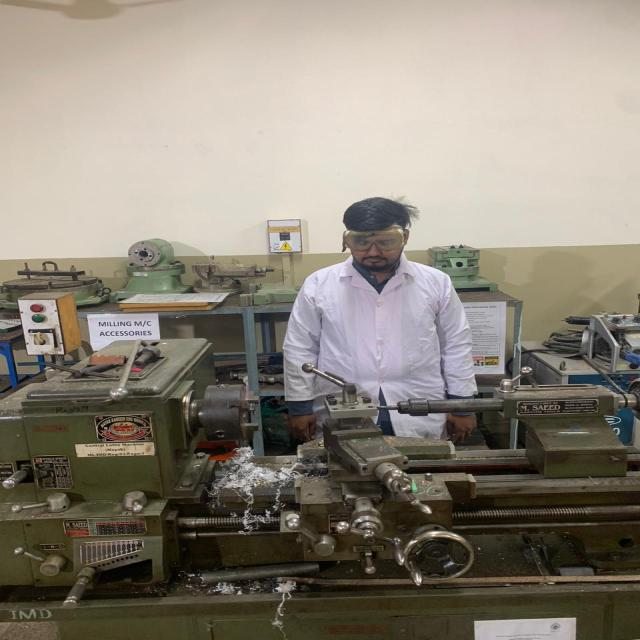googles: (342, 228, 406, 252)
labcoat: (277, 260, 480, 476)
